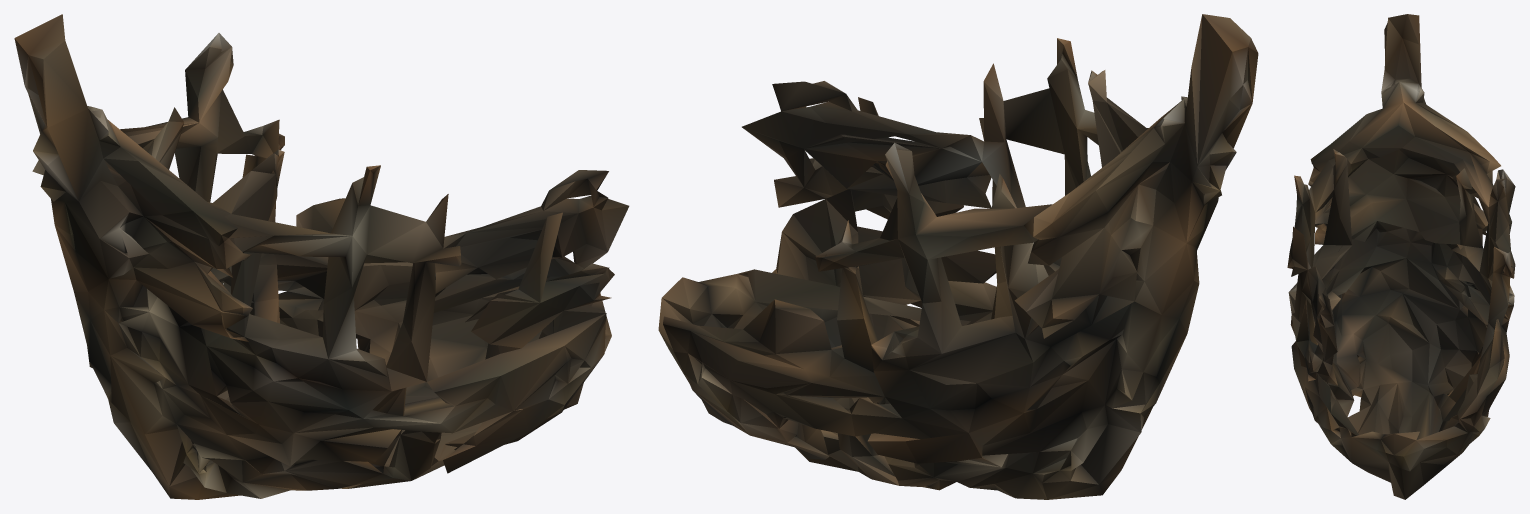
File: deep_wreck.glb
The picture shows the model from 3 angles, left to right: view 1: azimuth 30°, elevation 25°; view 2: azimuth 150°, elevation 25°; view 3: azimuth 270°, elevation 25°; orthographic projection. The views are drawn at different scales.
Bounding box in the file's own units: 1.88 × 1.62 × 1.01.
